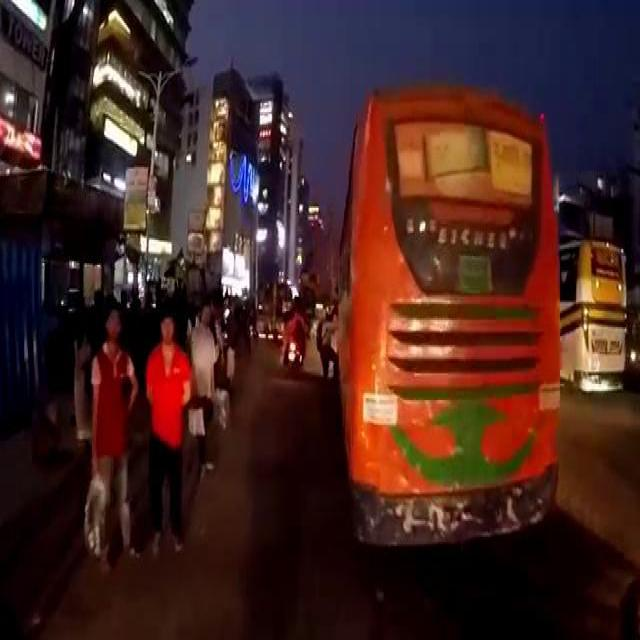bus: (333, 78, 562, 548), (558, 236, 626, 390)
motorbike: (284, 330, 302, 370)
